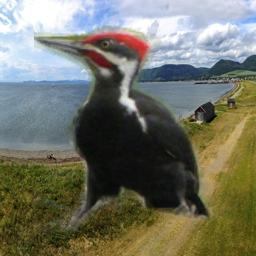Woodpecker: (34, 18, 214, 232)
